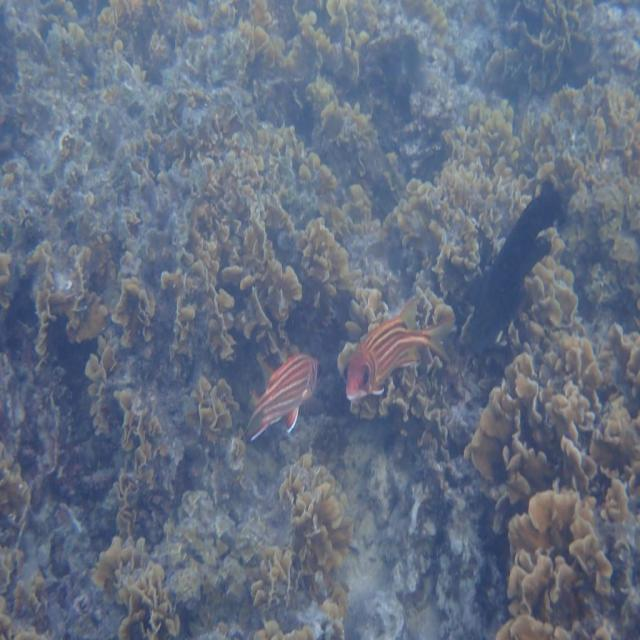Asker Baligi: (340, 284, 466, 418), (238, 335, 330, 461)
